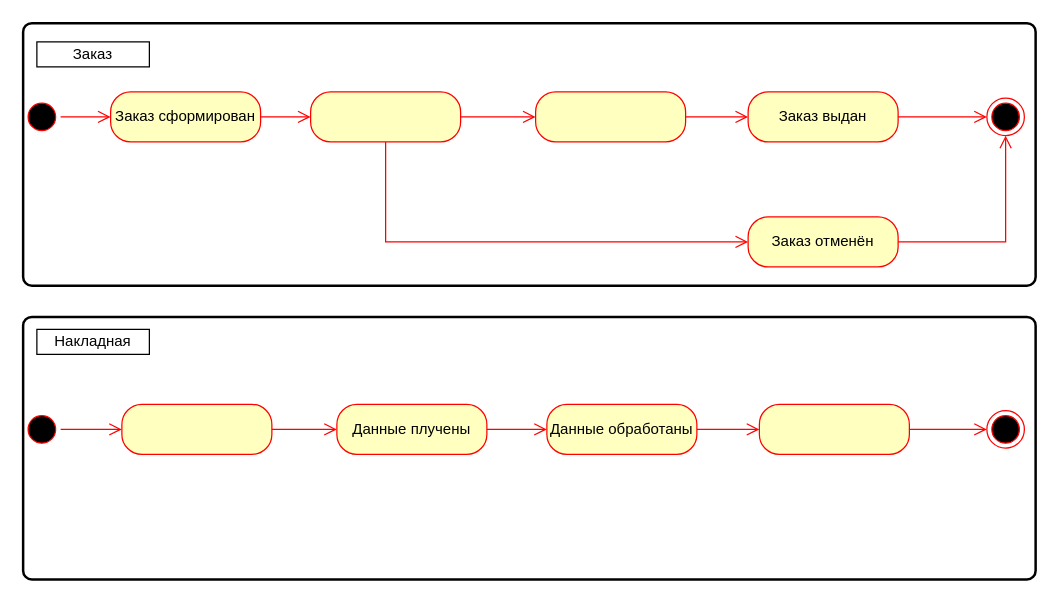
The diagram is 1058 pixels wide and 601 high, and some of its shapes have lost their labels. The shapes that lost their labels are listed below. From the top down, each one's centre as x and y in pixels, then its label:
At (x=385, y=116): "Заказ готов к выдаче и ожидает оплаты".
At (x=610, y=116): "Заказ оплачен".
At (x=196, y=428): "Запрос на формирование получен".
At (x=833, y=428): "Сформирована".
